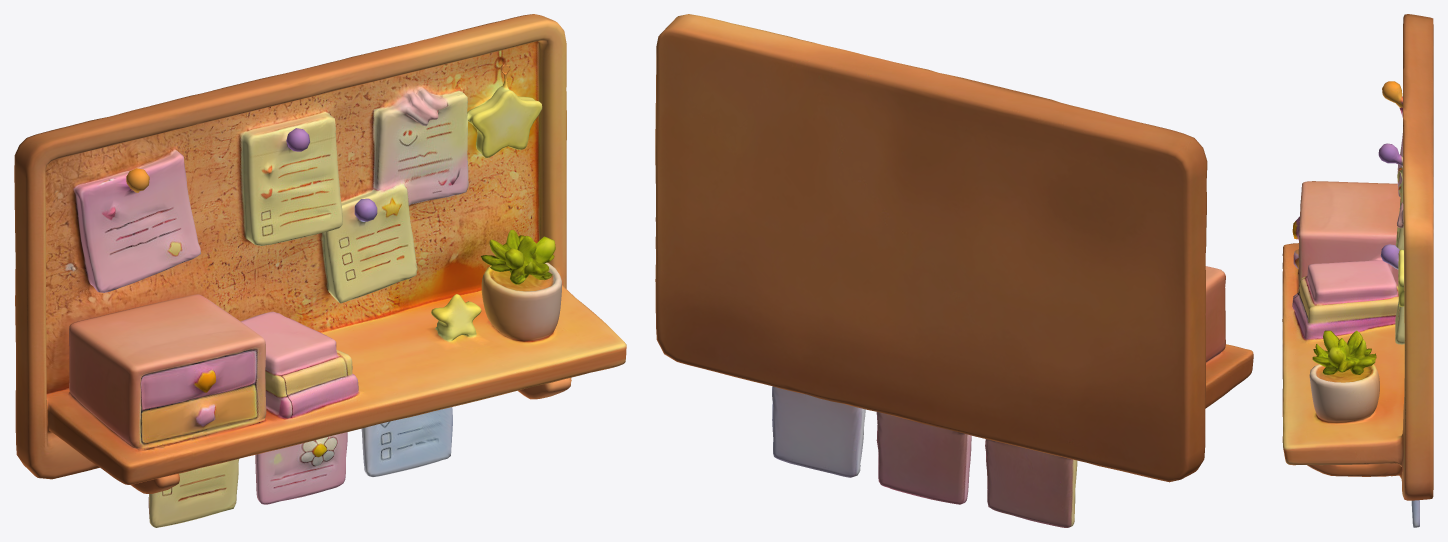
File: board.glb
The picture shows the model from 3 angles, left to right: view 1: azimuth 30°, elevation 25°; view 2: azimuth 150°, elevation 25°; view 3: azimuth 270°, elevation 25°; orthographic projection. The views are drawn at different scales.
Visible parts, largest first — view 1: model; view 2: model; view 3: model.
Part boxes in pixels (x1=…): model: x1=14, y1=14, x2=626, y2=527; model: x1=655, y1=14, x2=1253, y2=527; model: x1=1282, y1=14, x2=1433, y2=527.
Bounding box in the file's own units: 1.9 × 1.42 × 0.5527.
1 material, 1 textured.
